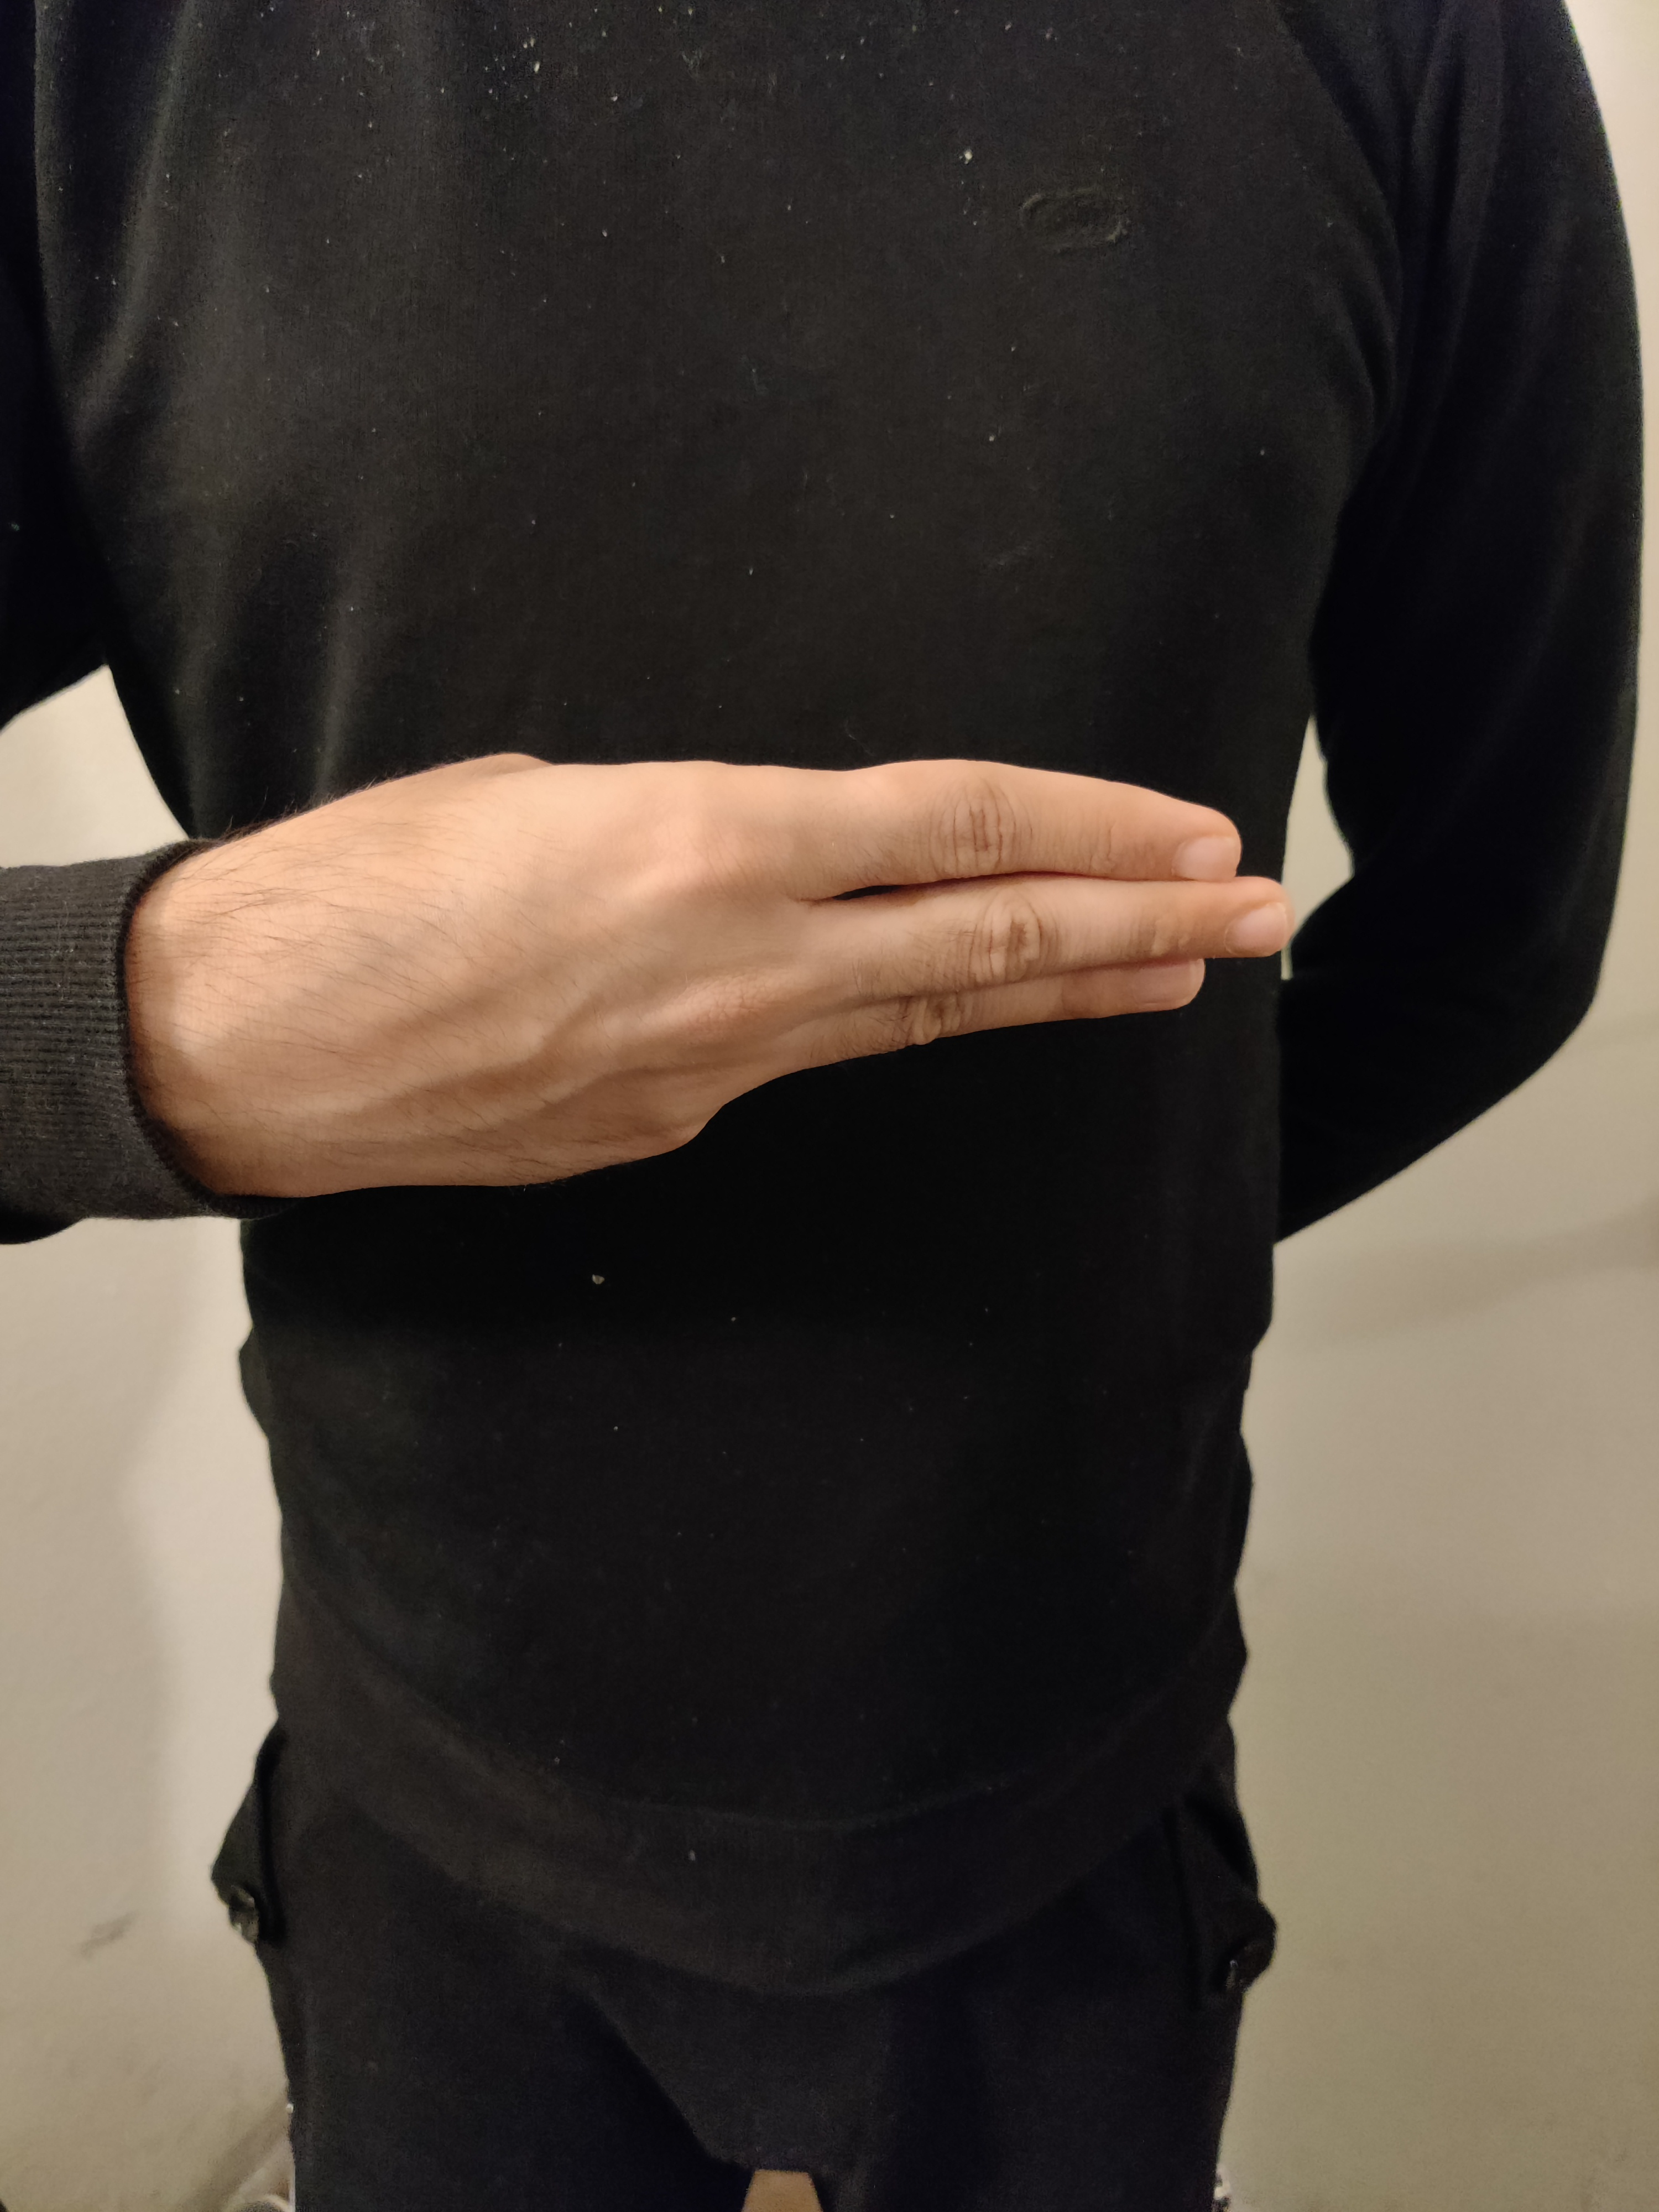left: (132, 416, 1422, 1522)
